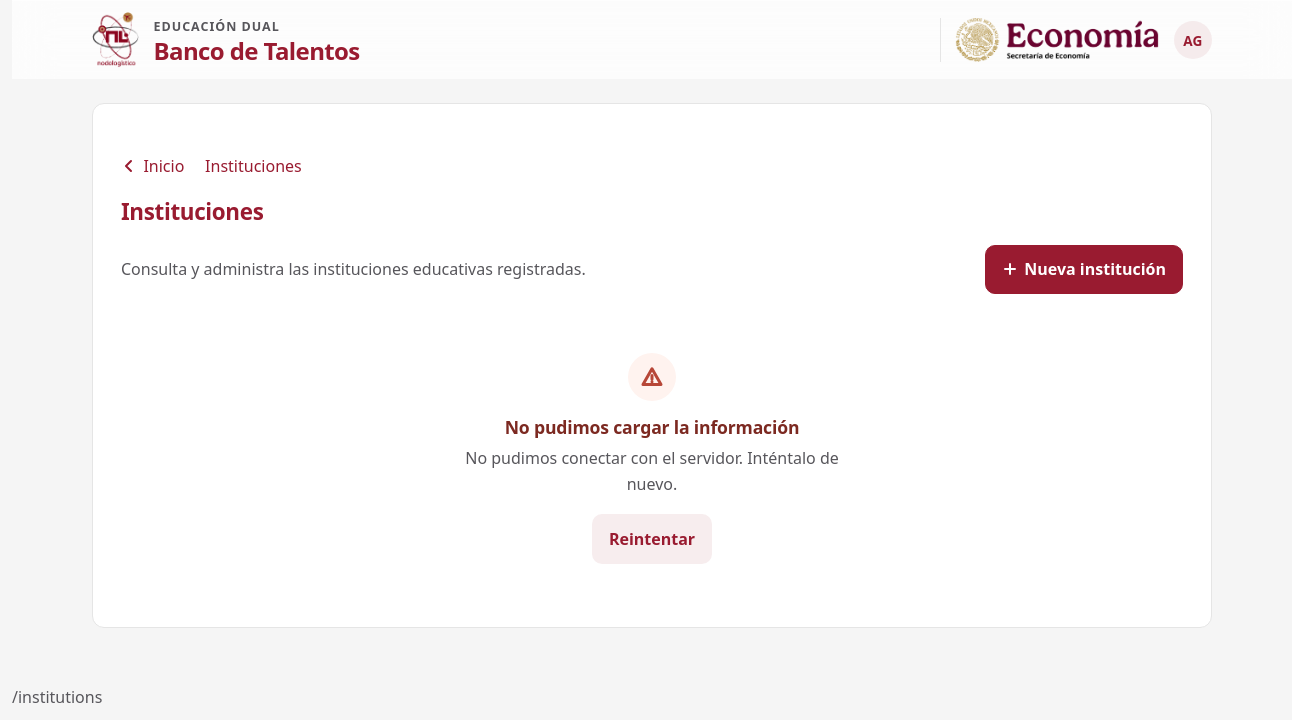
it: consulta de instituciones › permite reintentar la consulta ante un error de red
The image size is (1292, 720).
Check: the message shows "No pudimos conectar", box 465,447 -> 839,495
Click the button "Reintentar": (652, 539) 592,514 -> 712,564
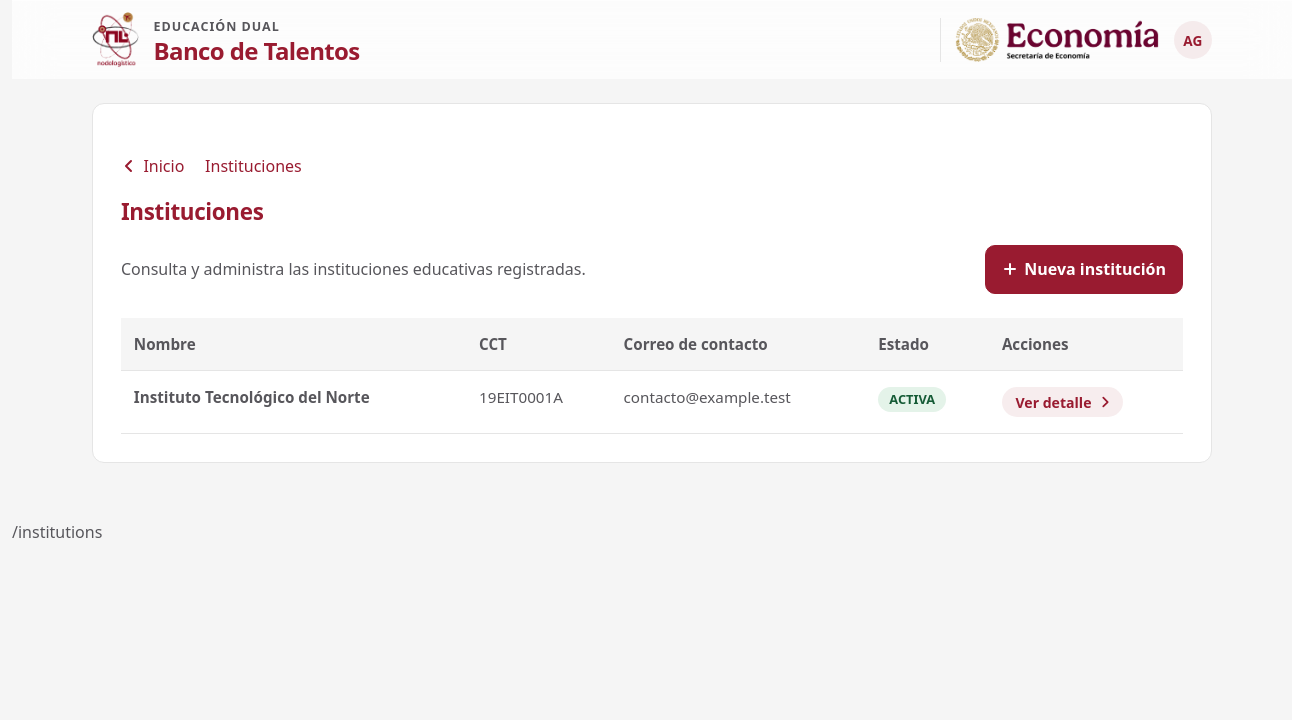
Check: the column heading "Instituto Tecnológico del Norte" is shown, box 121,371 -> 466,434
Check: the message "No pudimos cargar la información No pudimos conectar con el servidor. Inténtalo" is gone
